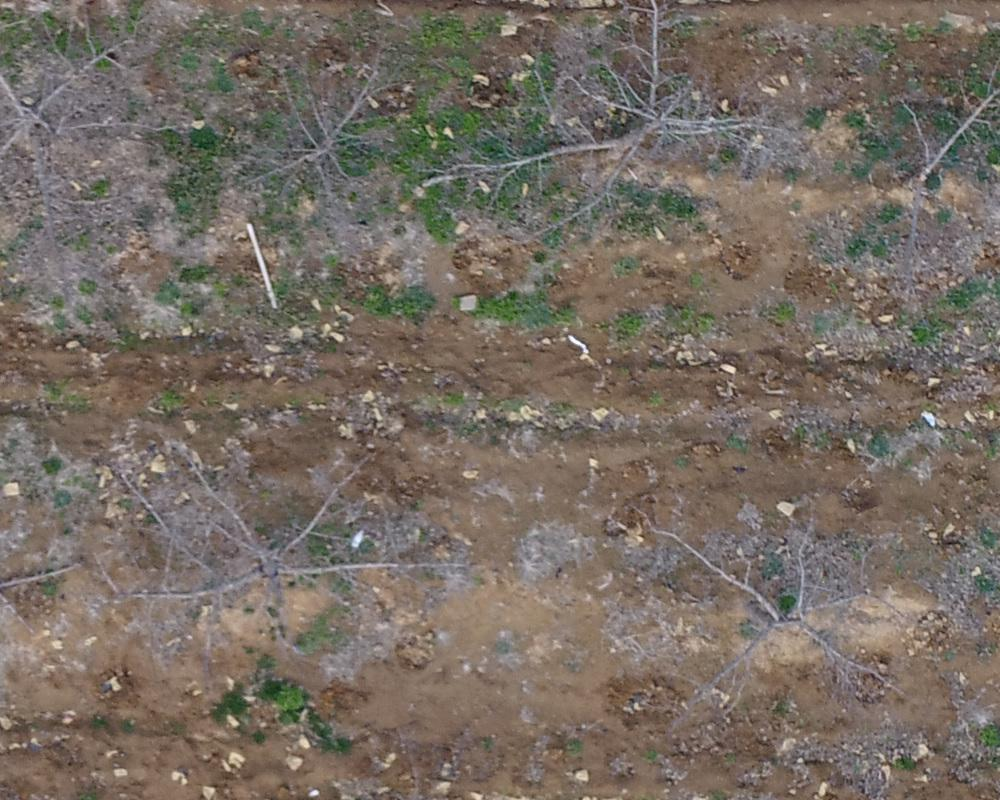apple: (429, 10, 776, 232), (108, 453, 472, 636), (641, 500, 897, 707), (855, 24, 990, 283), (10, 10, 158, 238), (225, 42, 401, 213)
